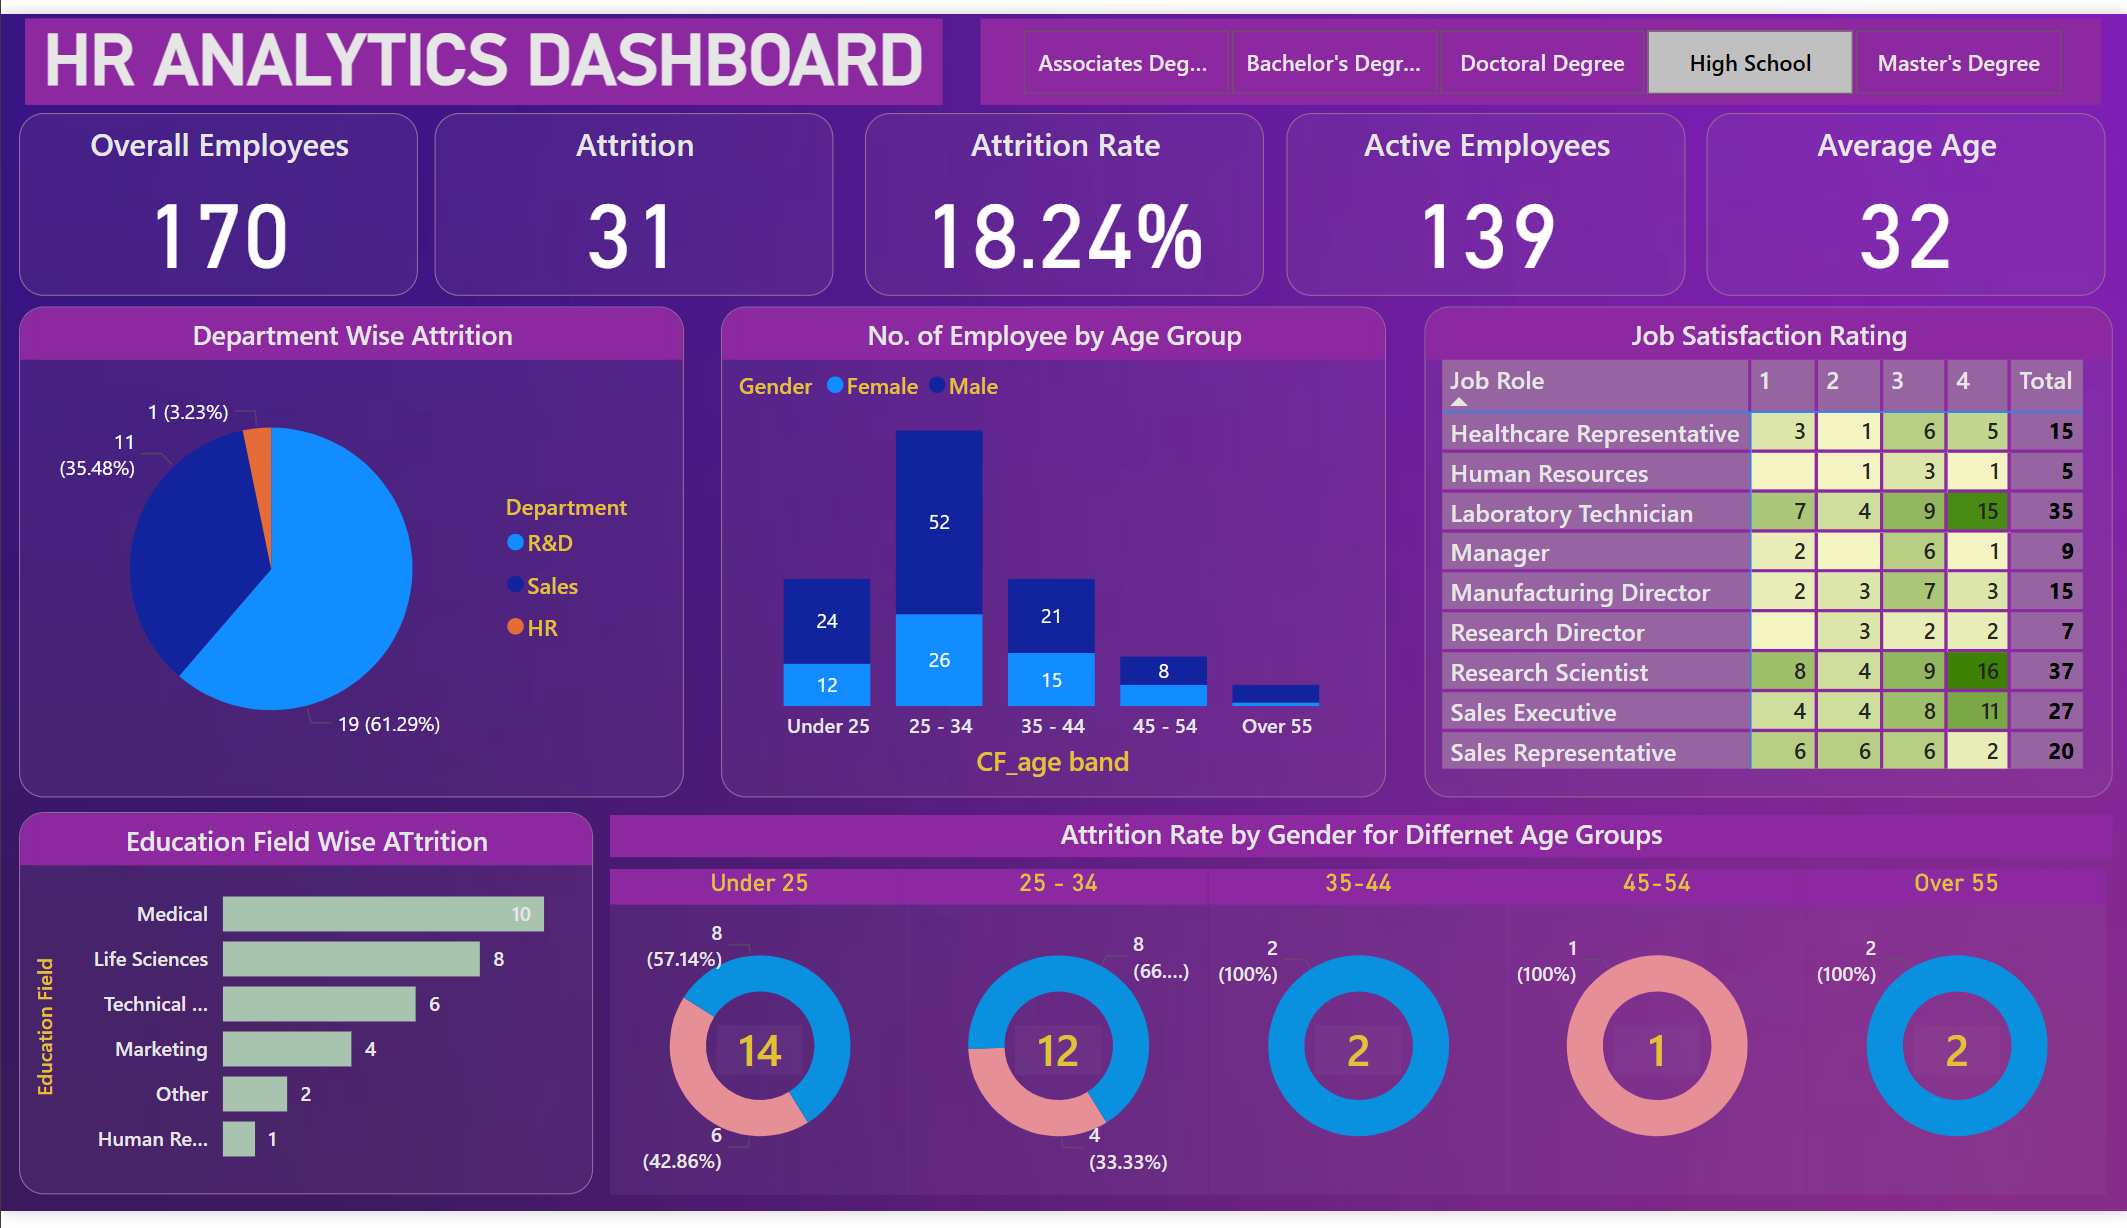

Layout of this report page (visuals, bound fields, positions):
{"tool":"powerbi","page":{"name":"Page 1","canvas":[1280,720],"ordinal":0},"visuals":[{"type":"card","title":"Overall Employees","fields":{"Values":["CountNonNull(HR data.Employee Number)"]},"box":[11,60,240,110],"z":0},{"type":"card","title":"Attrition","fields":{"Values":["HR data.Attrition_Count"]},"box":[261,60,240,110],"z":1000},{"type":"card","title":"Attrition Rate","fields":{"Values":["HR data.Attrition _rate"]},"box":[520,60,240,110],"z":2000},{"type":"card","title":"Active Employees","fields":{"Values":["HR data.Active_Employees"]},"box":[773,60,240,110],"z":3000},{"type":"card","title":"Average Age","fields":{"Values":["Avg(HR data.Age)"]},"box":[1026,60,240,110],"z":4000},{"type":"pieChart","title":"Department Wise Attrition","fields":{"Category":["HR data.Department"],"Y":["Sum(HR data.Attritio Count)"]},"box":[11,176,400,295],"z":5000},{"type":"columnChart","title":"No. of Employee by Age Group","fields":{"Category":["HR data.CF_age band"],"Y":["CountNonNull(HR data.Employee Number)"],"Series":["HR data.Gender"]},"box":[433,176,400,295],"z":6000},{"type":"pivotTable","title":"Job Satisfaction Rating","fields":{"Rows":["HR data.Job Role"],"Columns":["HR data.Job Satisfaction"],"Values":["Count(HR data.Employee Number)"]},"box":[856,176,414,295],"z":7000},{"type":"barChart","title":"Education Field Wise ATtrition","fields":{"Category":["HR data.Education Field"],"Y":["Sum(HR data.Attritio Count)"]},"box":[11,480,345,230],"z":8000},{"type":"donutChart","title":"Under 25","fields":{"Category":["HR data.Gender"],"Y":["Sum(HR data.Attritio Count)"],"Series":["HR data.CF_age band"]},"box":[366,514,180,196],"z":9000},{"type":"textbox","title":"Attrition Rate by Gender  for Differnet Age Groups","box":[366,482,904,25],"z":10000},{"type":"donutChart","title":"25 - 34","fields":{"Category":["HR data.Gender"],"Y":["Sum(HR data.Attritio Count)"],"Series":["HR data.CF_age band"]},"box":[546,514,180,196],"z":11000},{"type":"donutChart","title":"35-44","fields":{"Category":["HR data.Gender"],"Y":["Sum(HR data.Attritio Count)"],"Series":["HR data.CF_age band"]},"box":[726,514,180,196],"z":12000},{"type":"donutChart","title":"45-54","fields":{"Category":["HR data.Gender"],"Y":["Sum(HR data.Attritio Count)"],"Series":["HR data.CF_age band"]},"box":[906,514,180,196],"z":13000},{"type":"donutChart","title":"Over 55","fields":{"Category":["HR data.Gender"],"Y":["Sum(HR data.Attritio Count)"],"Series":["HR data.CF_age band"]},"box":[1086,514,180,196],"z":14000},{"type":"card","fields":{"Values":["Sum(HR data.Attritio Count)"]},"box":[430,608,52,30],"z":15000},{"type":"card","fields":{"Values":["Sum(HR data.Attritio Count)"]},"box":[610,608,52,30],"z":16000},{"type":"card","fields":{"Values":["Sum(HR data.Attritio Count)"]},"box":[790,608,52,30],"z":17000},{"type":"card","fields":{"Values":["Sum(HR data.Attritio Count)"]},"box":[970,608,52,30],"z":18000},{"type":"card","fields":{"Values":["Sum(HR data.Attritio Count)"]},"box":[1150,608,52,30],"z":19000},{"type":"textbox","title":"HR ANALYTICS DASHBOARD","box":[14,3,552,52],"z":20000},{"type":"slicer","fields":{"Values":["HR data.Education"]},"box":[589,3,674,52],"z":21000}]}

Visuals, with their boxes in screenshot pixels (x1, y1, x2, y2), scaled from the page's 1280x720 canvas onto the 2127x1228 screenshot:
"Overall Employees" card: x1=18 y1=102 x2=417 y2=290
"Attrition" card: x1=434 y1=102 x2=833 y2=290
"Attrition Rate" card: x1=864 y1=102 x2=1263 y2=290
"Active Employees" card: x1=1285 y1=102 x2=1683 y2=290
"Average Age" card: x1=1705 y1=102 x2=2104 y2=290
"Department Wise Attrition" pieChart: x1=18 y1=300 x2=683 y2=803
"No. of Employee by Age Group" columnChart: x1=720 y1=300 x2=1384 y2=803
"Job Satisfaction Rating" pivotTable: x1=1422 y1=300 x2=2110 y2=803
"Education Field Wise ATtrition" barChart: x1=18 y1=819 x2=592 y2=1211
"Under 25" donutChart: x1=608 y1=877 x2=907 y2=1211
"Attrition Rate by Gender  for Differnet Age Groups" textbox: x1=608 y1=822 x2=2110 y2=865
"25 - 34" donutChart: x1=907 y1=877 x2=1206 y2=1211
"35-44" donutChart: x1=1206 y1=877 x2=1506 y2=1211
"45-54" donutChart: x1=1506 y1=877 x2=1805 y2=1211
"Over 55" donutChart: x1=1805 y1=877 x2=2104 y2=1211
card - Sum(HR data.Attritio Count): x1=715 y1=1037 x2=801 y2=1088
card - Sum(HR data.Attritio Count): x1=1014 y1=1037 x2=1100 y2=1088
card - Sum(HR data.Attritio Count): x1=1313 y1=1037 x2=1399 y2=1088
card - Sum(HR data.Attritio Count): x1=1612 y1=1037 x2=1698 y2=1088
card - Sum(HR data.Attritio Count): x1=1911 y1=1037 x2=1997 y2=1088
"HR ANALYTICS DASHBOARD" textbox: x1=23 y1=5 x2=941 y2=94
slicer - HR data.Education: x1=979 y1=5 x2=2099 y2=94
